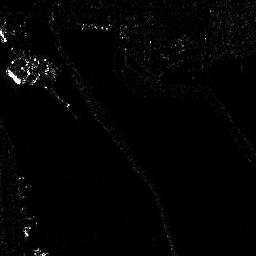ship: (5, 68, 22, 85)
